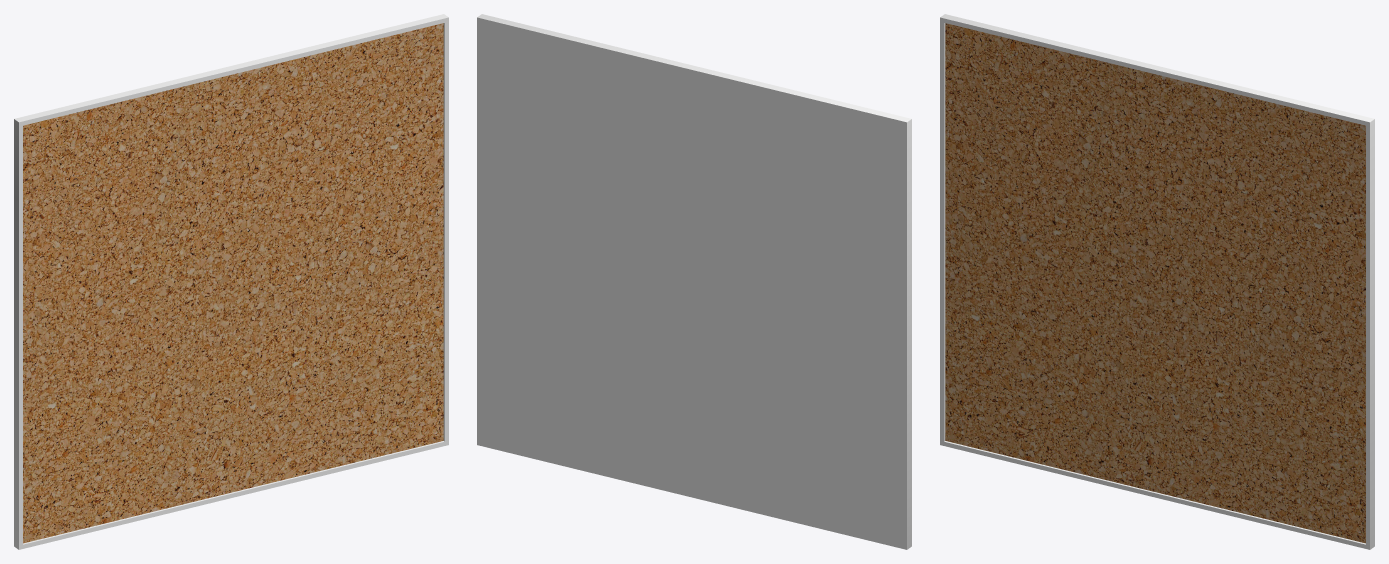
The model's file is Corkboard.fbx.
3 views of the same model, side by side, from view 1: azimuth 30°, elevation 25°; view 2: azimuth 150°, elevation 25°; view 3: azimuth 330°, elevation 25° (orthographic).
Visible parts, largest first — view 1: Corkboard; view 2: Corkboard; view 3: Corkboard.
Boxes of the visible parts, left/top/right/bottom form: Corkboard: left=14, top=14, right=448, bottom=549; Corkboard: left=477, top=14, right=911, bottom=549; Corkboard: left=940, top=14, right=1374, bottom=549.
Bounding box in the file's own units: 104 × 98.74 × 2.
1 material, 1 textured.
